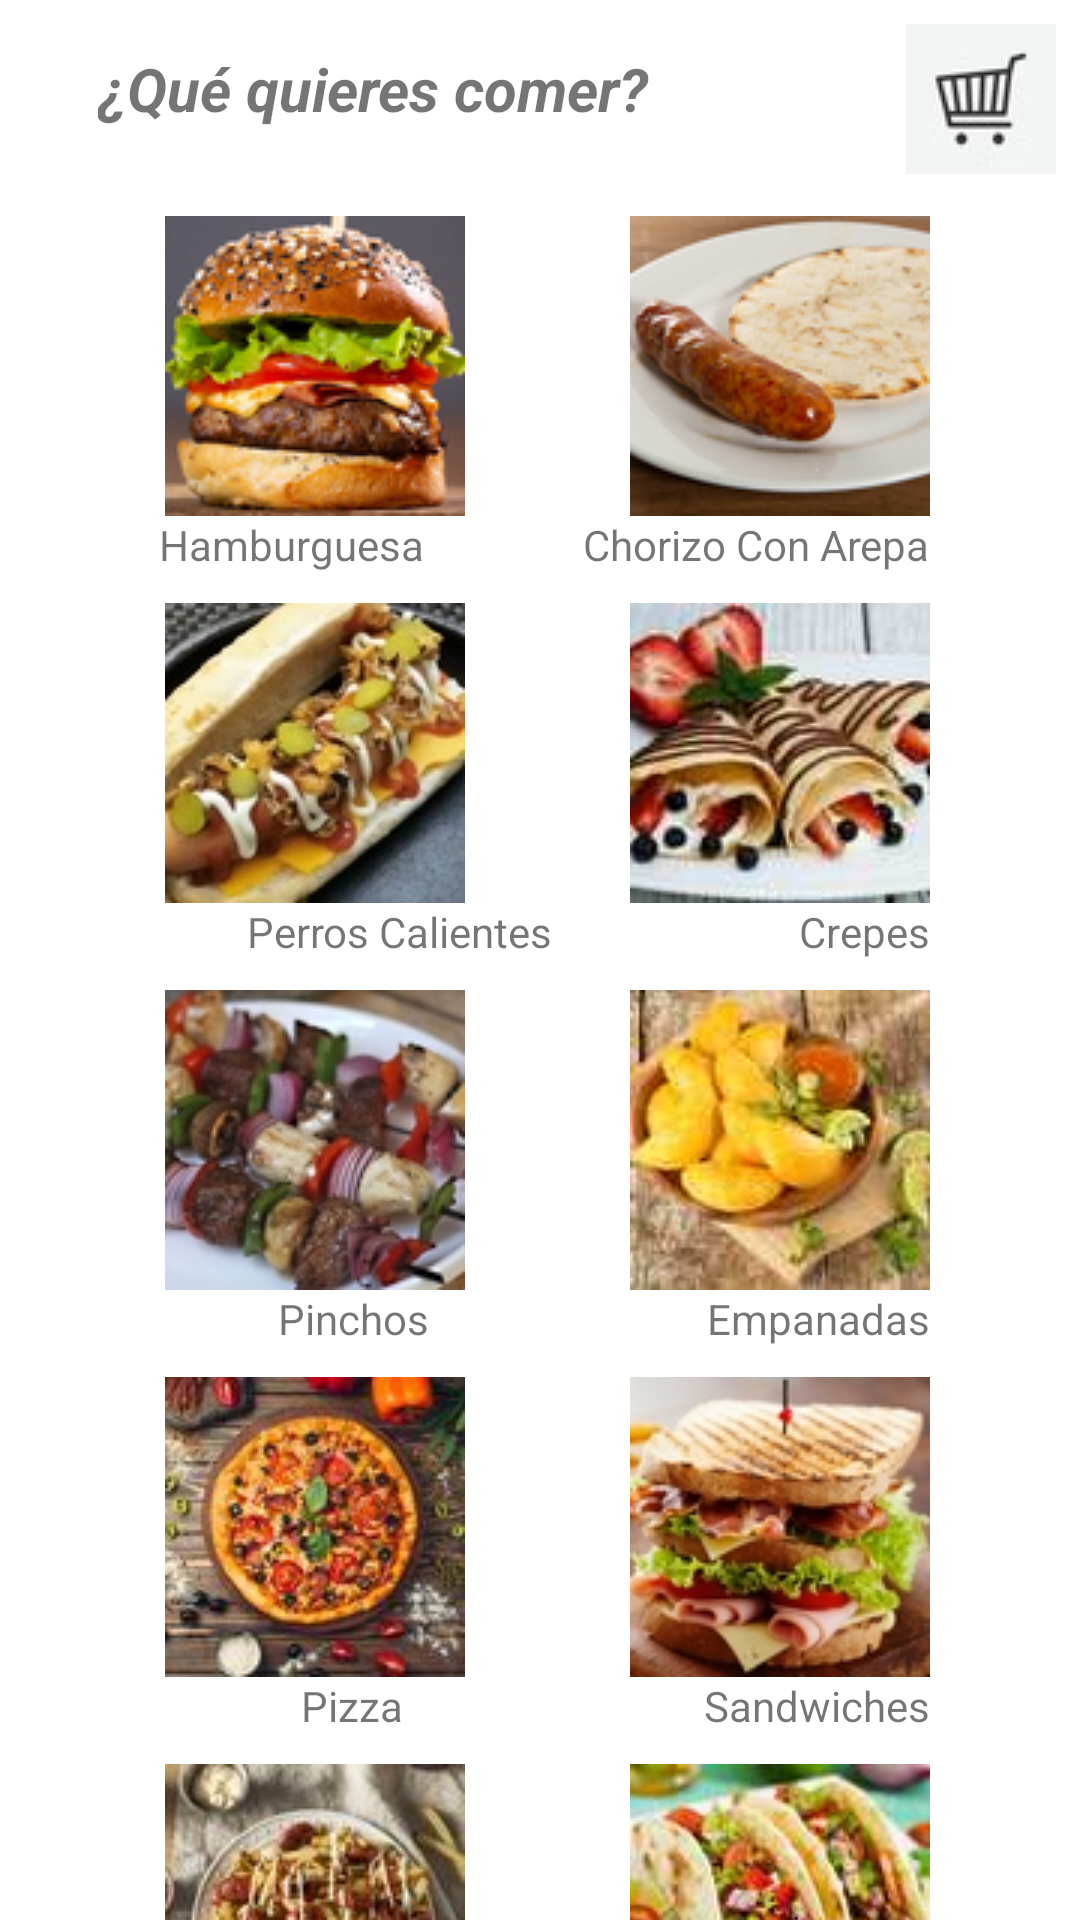

Point at icon controls on the screen. Image size 1080x1920, points as (x=x, y=y).
carrito: (x=981, y=99)
